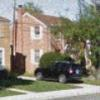buses: (34, 61, 84, 84)
